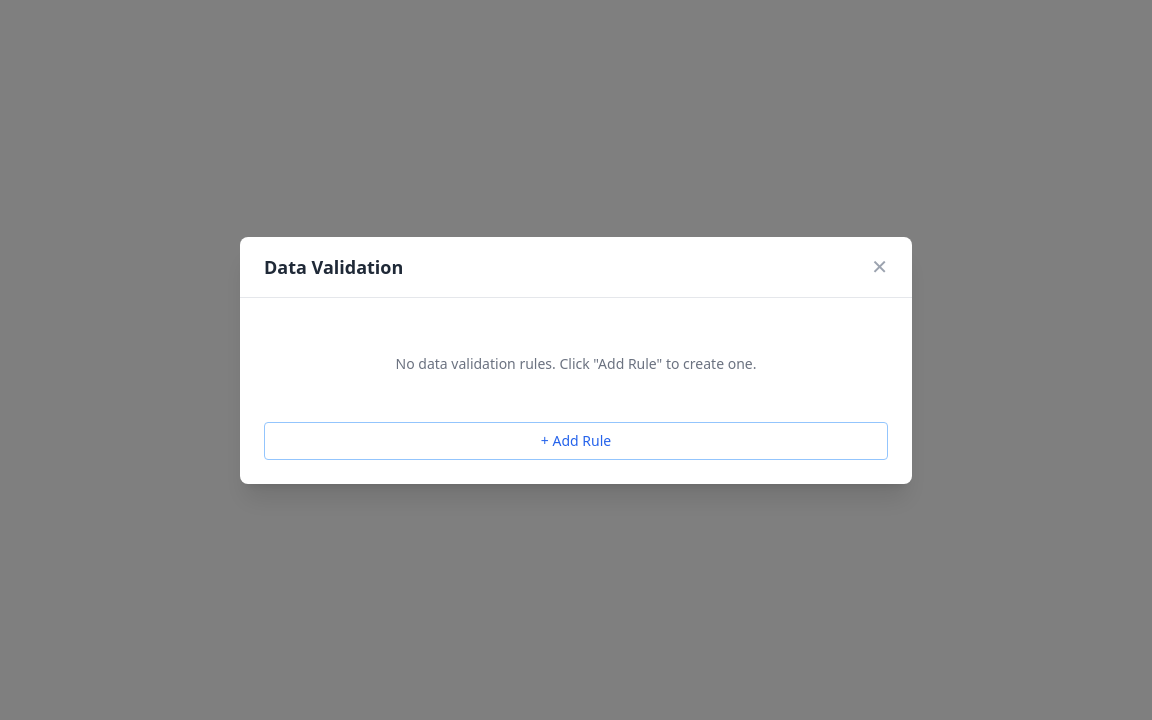
it: DataValidationModal › opens rule editor when Add Rule is clicked
Step 1. Click the button "+ Add Rule" → (576, 440), box [264,422,888,460]
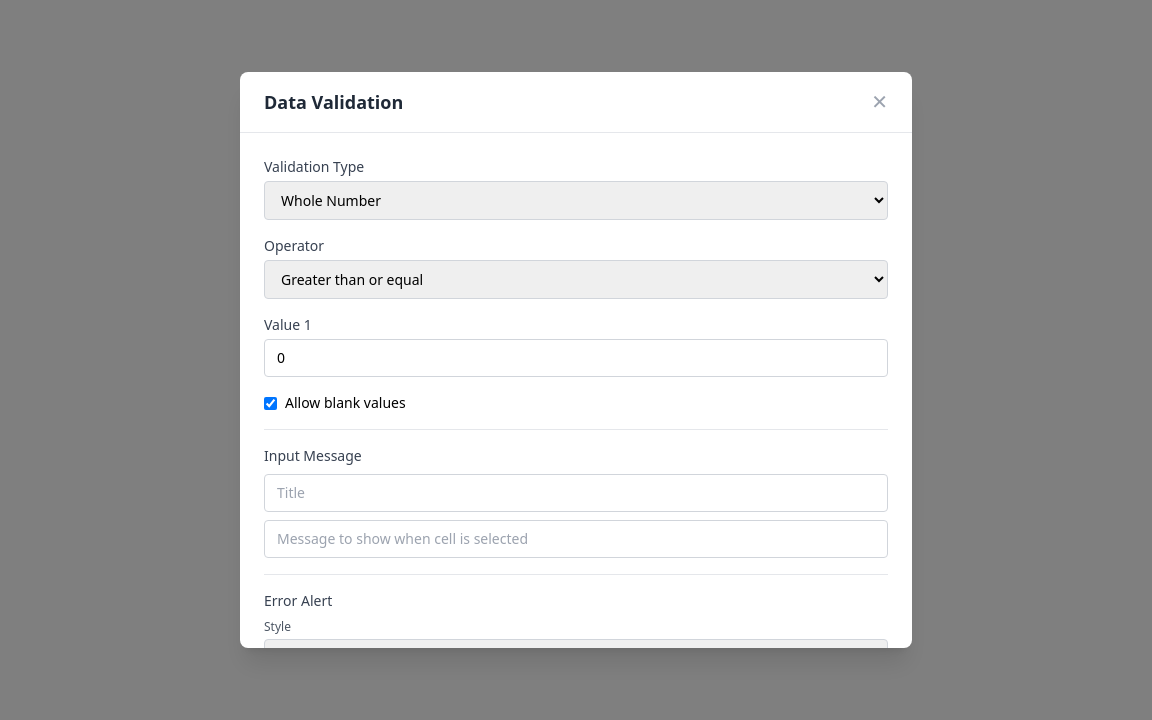
Check: the text "Validation Type" is shown, box [264,157,364,176]
